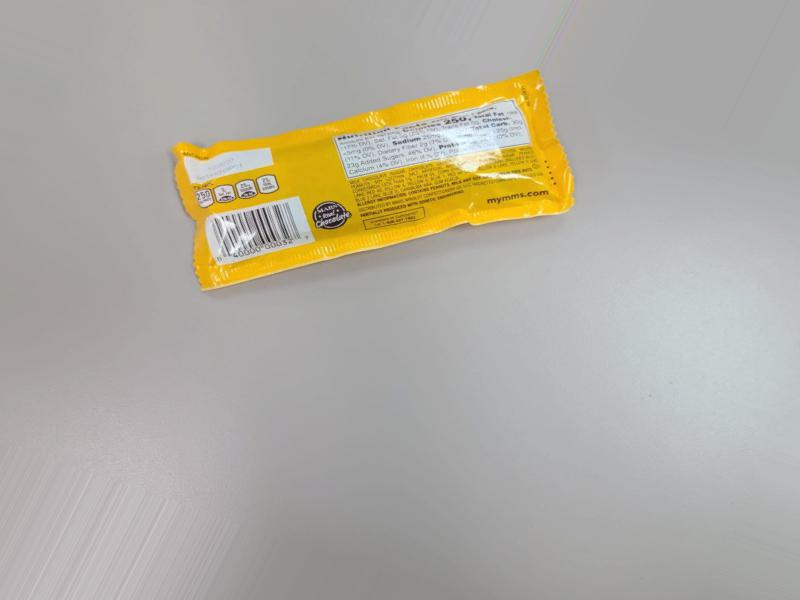m&m: (190, 66, 560, 293)
